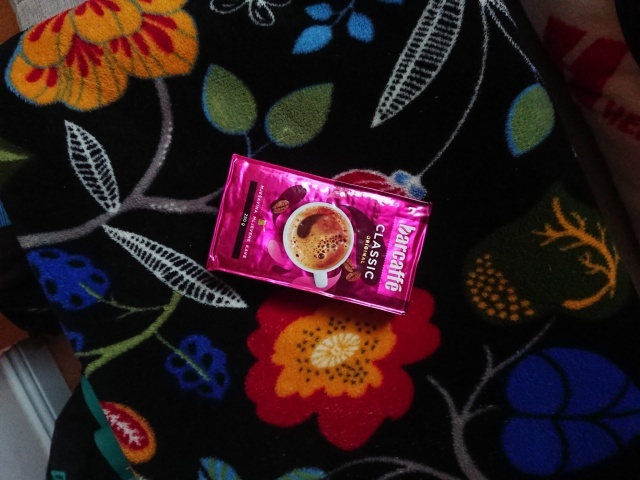Barcaffe Classic Original 225g: (203, 148, 435, 318)
